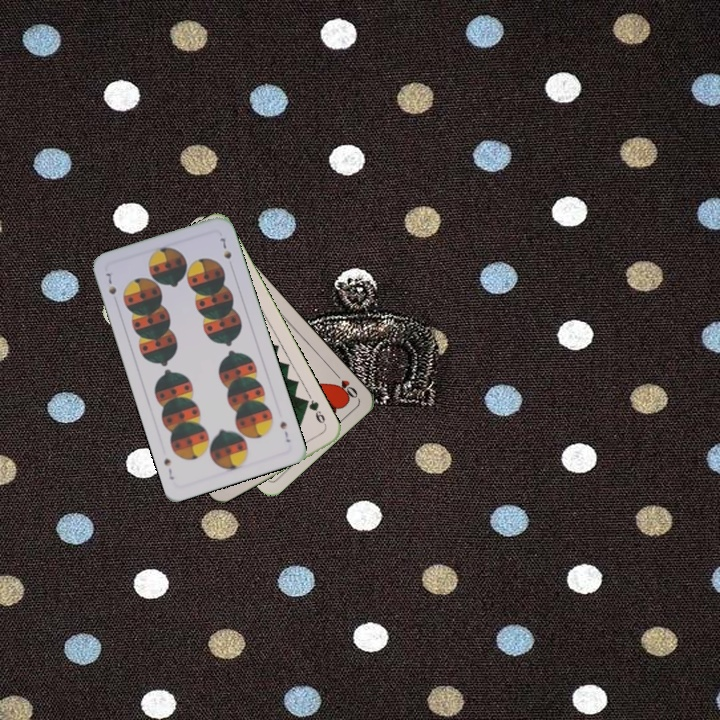G9: (300, 395, 329, 430)
HO: (329, 368, 361, 402)
S7: (101, 268, 119, 297), (276, 417, 293, 445)
